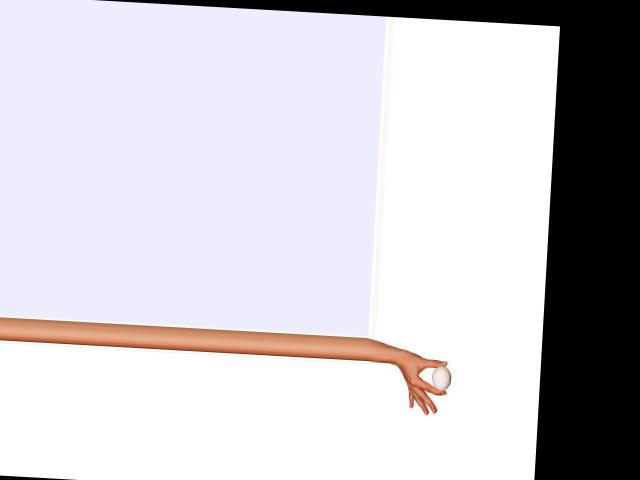egg: (431, 365, 452, 391)
